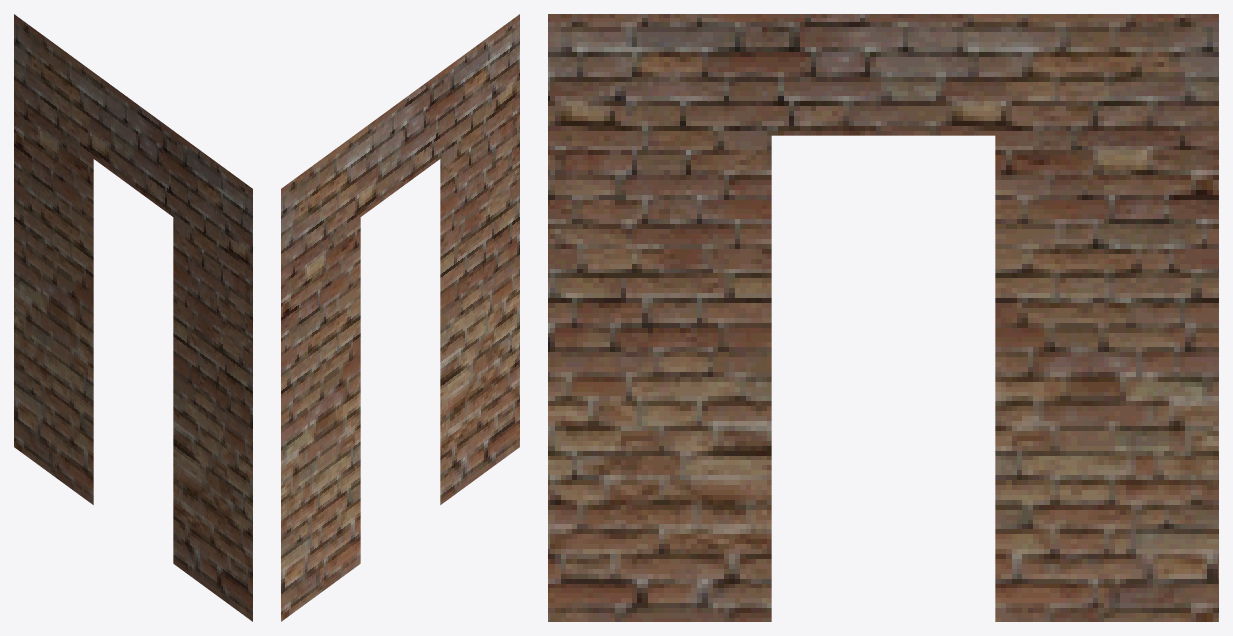
The model's file is brick_wall_door_frame.glb.
3 views of the same model, side by side, from view 1: azimuth 30°, elevation 25°; view 2: azimuth 150°, elevation 25°; view 3: azimuth 270°, elevation 25° (orthographic). The views are drawn at different scales.
Visible parts, largest first — view 1: brick_wall_door_frame; view 2: brick_wall_door_frame; view 3: brick_wall_door_frame.
Part boxes in pixels (x1,y1,x2,y2): brick_wall_door_frame: (14, 14, 252, 621); brick_wall_door_frame: (281, 14, 519, 621); brick_wall_door_frame: (548, 14, 1218, 621).
Bounding box in the file's own units: 0 × 3 × 3.
Materials: 1 (1 with a texture image).
